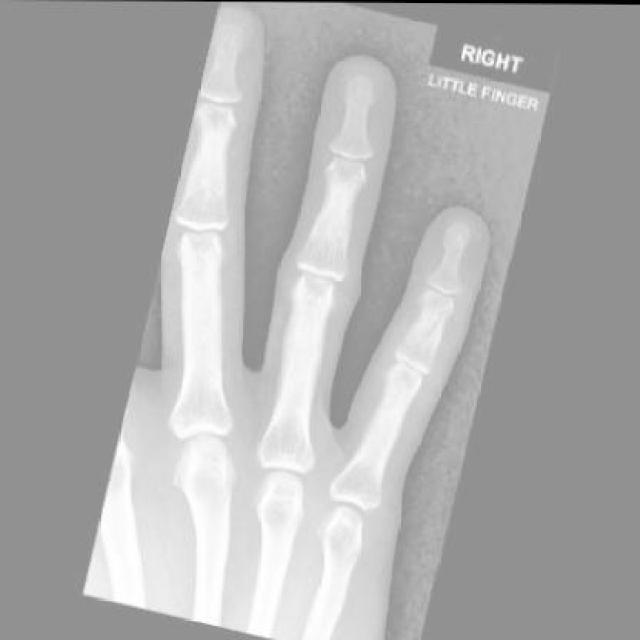Fracture: (414, 288, 462, 350)
